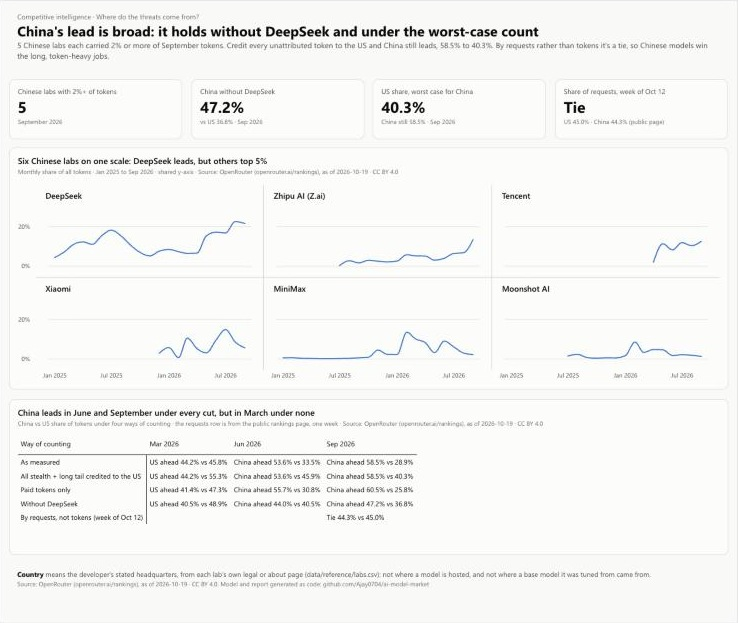

Layout of this report page (visuals, bound fields, positions):
{"tool":"tableau","page":{"name":"4 · Competitive intel","canvas":[1400,950],"ordinal":3},"visuals":[{"type":"text","box":[0,0,1400,123.5]},{"type":"text","box":[0,123.5,350,104.5]},{"type":"text","box":[350,123.5,350,104.5]},{"type":"text","box":[700,123.5,350,104.5]},{"type":"text","box":[1050,123.5,350,104.5]},{"type":"worksheet","title":"Chinese labs","mark":"Line","rows":["Lab Title","Share"],"cols":["Month"],"box":[0,228,1400,418]},{"type":"worksheet","title":"Robustness","mark":"Text","rows":["Way of Counting"],"cols":["Month"],"box":[0,646,1400,237.5]},{"type":"text","box":[0,883.5,1400,66.5]}]}

Visuals, with their boxes on the page's 1400x950 design canvas (x1, y1, x2, y2). These are canvas units, not pixel positions in the 738x623 screenshot, which may show the page scaled, cropped or inside an application window:
text: (0,0,1400,124)
text: (0,124,350,228)
text: (350,124,700,228)
text: (700,124,1050,228)
text: (1050,124,1400,228)
"Chinese labs" worksheet (Line marks): (0,228,1400,646)
"Robustness" worksheet (Text marks): (0,646,1400,884)
text: (0,884,1400,950)
